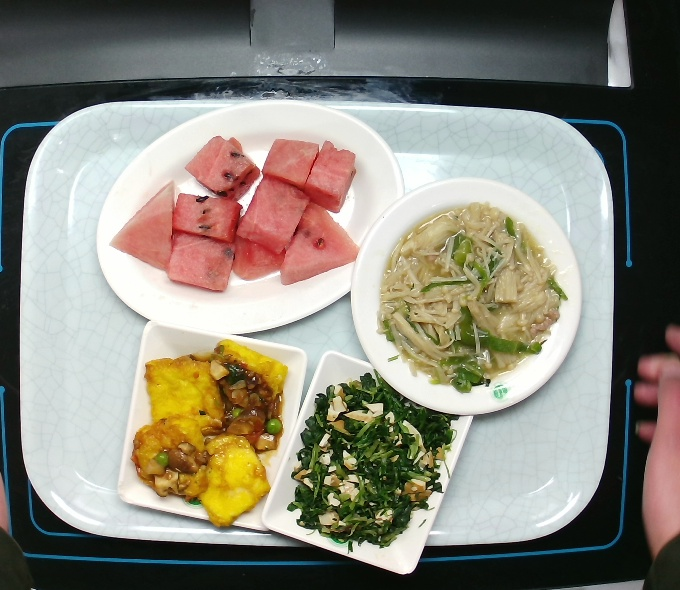wcq-CuiPiDouFu: (128, 337, 290, 534)
wcq-JinZhenGu: (372, 198, 569, 395)
wcq-MaLanTouChaoDouGan: (284, 365, 465, 556)
wcq-XiGua: (107, 130, 363, 293)
